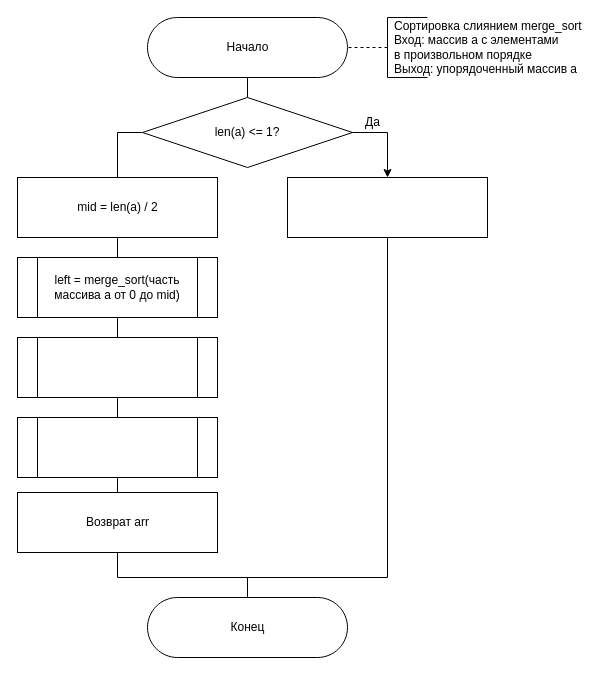
This 600x675 diagram has some shape labels left out. The shapes that lost their labels are listed below. From the top down, each one's box as (x1, y1, x2, y2) in pixels, then its label:
(286, 176, 488, 238): Возврат a
(16, 336, 218, 398): right = merge_sort(часть массива a от mid до len(a))
(16, 416, 218, 478): arr = merge(left, right)
